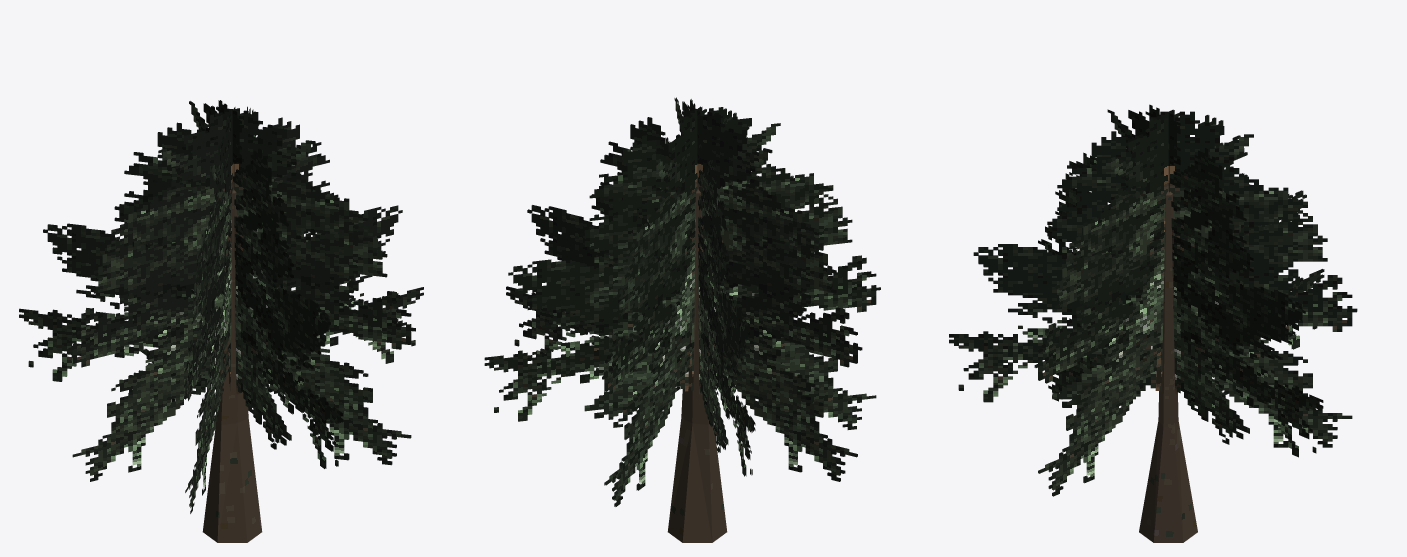
Rendered from tree14.glb.
3 views of the same model, side by side, from view 1: azimuth 30°, elevation 25°; view 2: azimuth 150°, elevation 25°; view 3: azimuth 270°, elevation 25° (orthographic).
Visible parts, largest first — view 1: tree14; view 2: tree14; view 3: tree14.
Boxes of the visible parts, box(x1,y1,x2,y2) form: tree14: box(19, 100, 423, 542); tree14: box(484, 97, 880, 542); tree14: box(949, 104, 1357, 542).
Bounding box in the file's own units: 7.68 × 8 × 7.68.
1 material, 1 textured.
